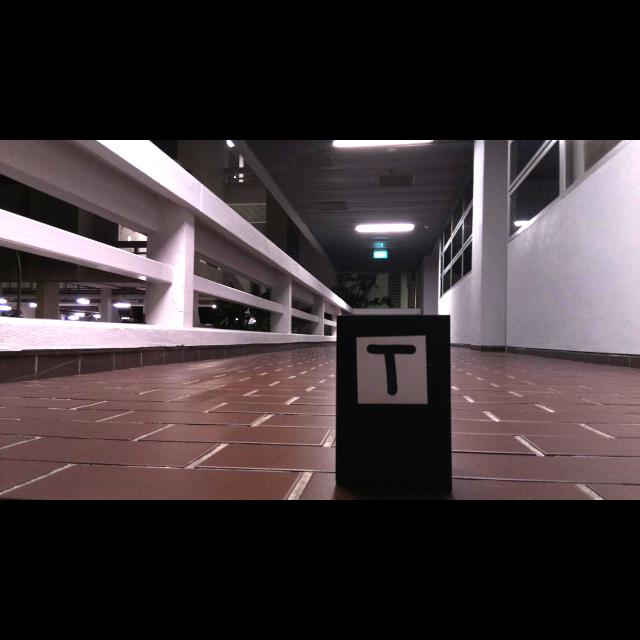T: (367, 344, 416, 397)
